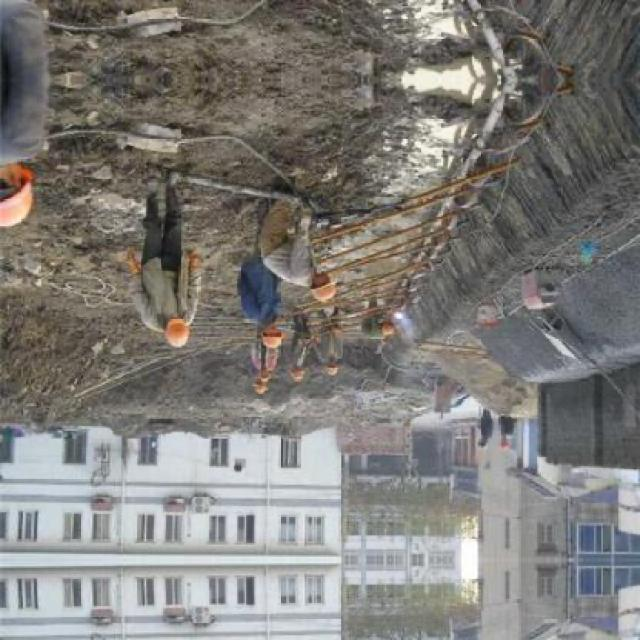con casco: (0, 134, 74, 240), (118, 289, 186, 361), (251, 289, 295, 351), (293, 264, 350, 304), (249, 366, 295, 405), (316, 352, 345, 382)
